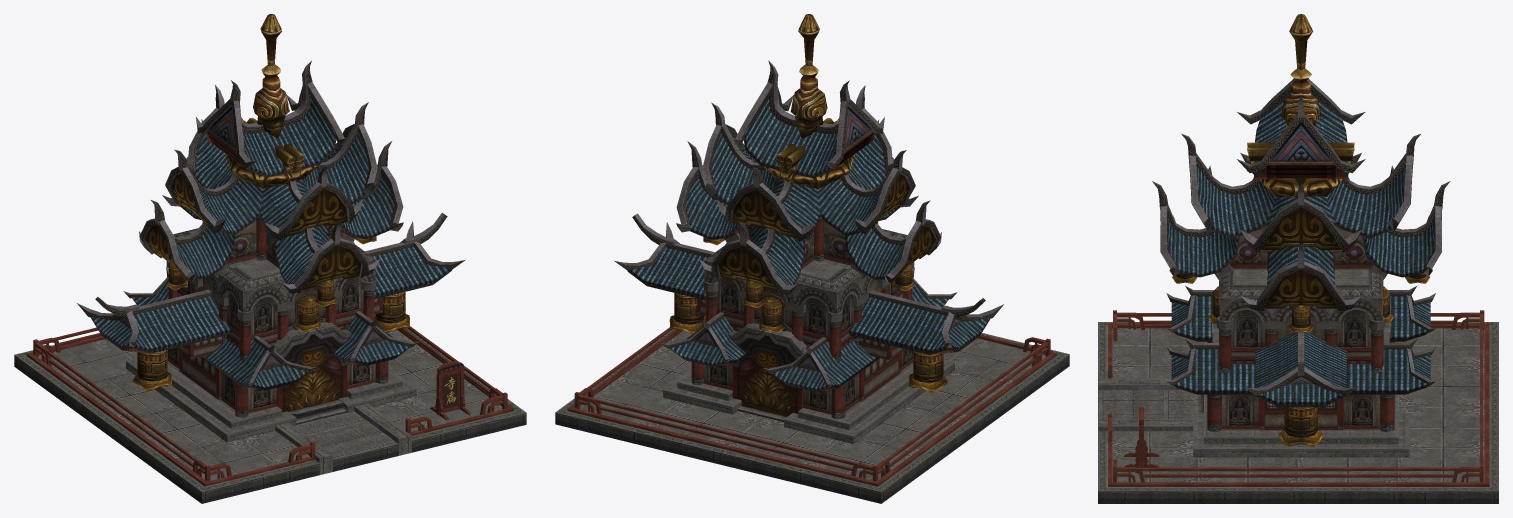
3 views of the same model, side by side, from view 1: azimuth 30°, elevation 25°; view 2: azimuth 150°, elevation 25°; view 3: azimuth 270°, elevation 25° (orthographic). The views are drawn at different scales.
Visible parts, largest first — view 1: g_41; view 2: g_41; view 3: g_41.
Part boxes in pixels (box(x1,y1,x2,y2)): g_41: box(14, 14, 526, 503); g_41: box(555, 14, 1069, 503); g_41: box(1098, 14, 1498, 503).
Size of the model in its own units: 21.51 by 22.35 by 20.
3 materials, 3 textured.
